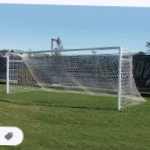goals: (5, 46, 147, 111)
